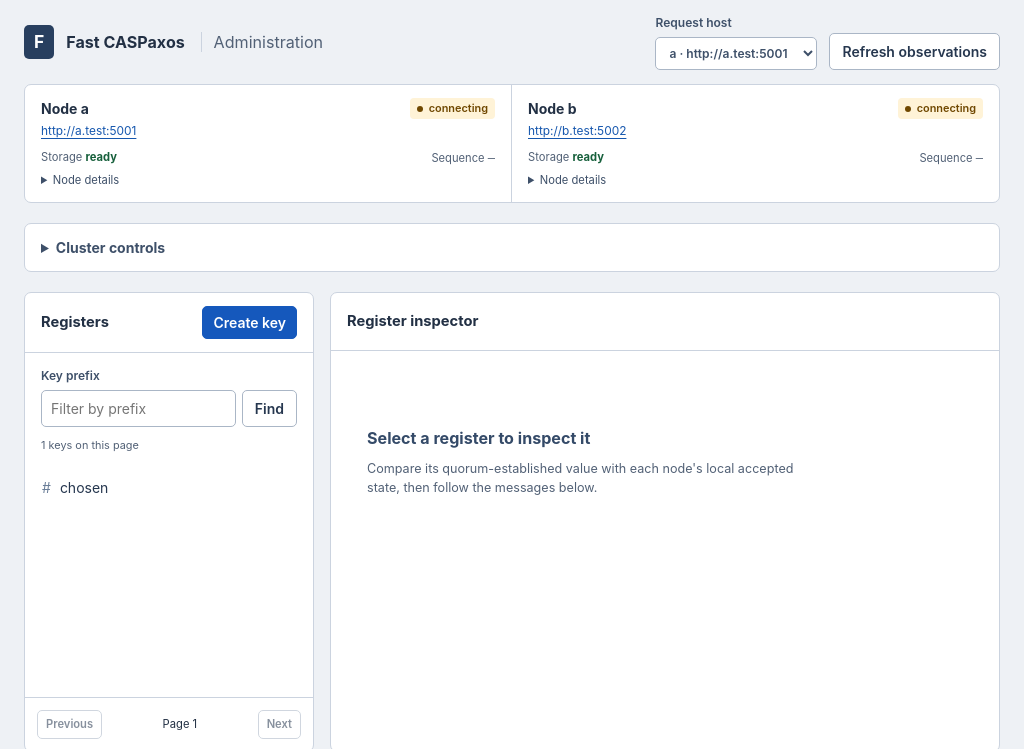
Test case: App register creation › shows both fields immediately and creates a text value in one submission
Click the button "Create key" at (250, 322), box [202,306,297,339]
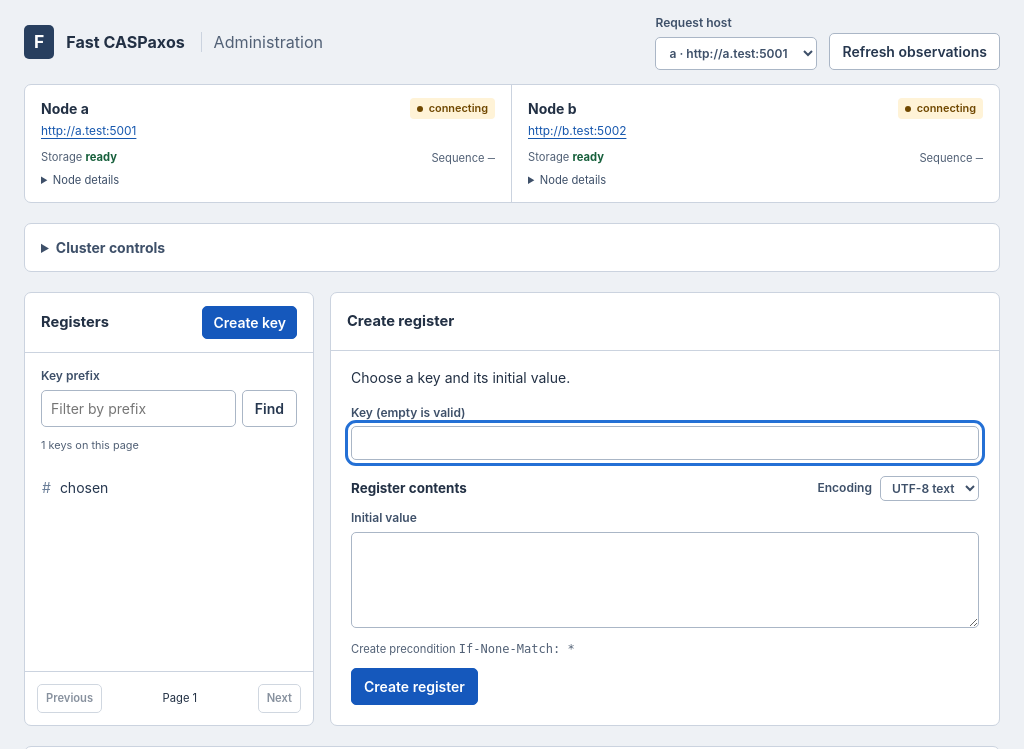
Result: the field labelled "Key (empty is valid)" is shown
Type "new/original" into the field labelled "Key (empty is valid)" at (665, 443), box [351,426,979,460]
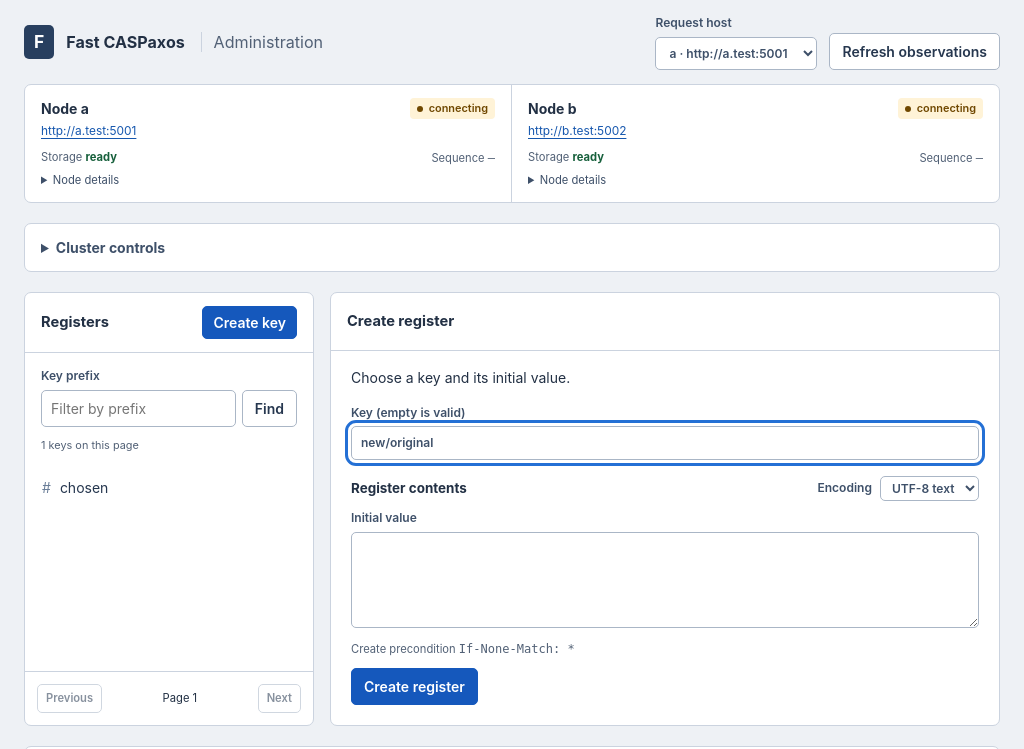
Select "UTF-8 text" in the dropdown labelled "Encoding" at (930, 488), box [880,476,979,501]
Type "hello" into the text box labelled "Initial value" at (665, 580), box [351,532,979,628]
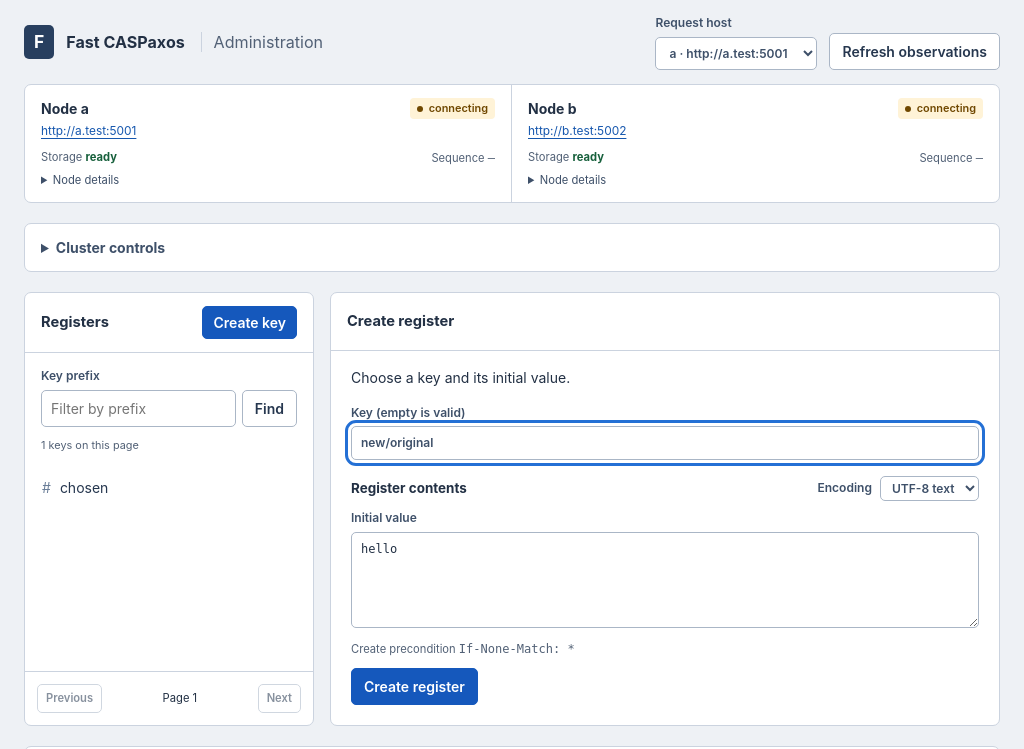
Replace the text in the field labelled "Key (empty is valid)" with "new/final" at (665, 443), box [351,426,979,460]
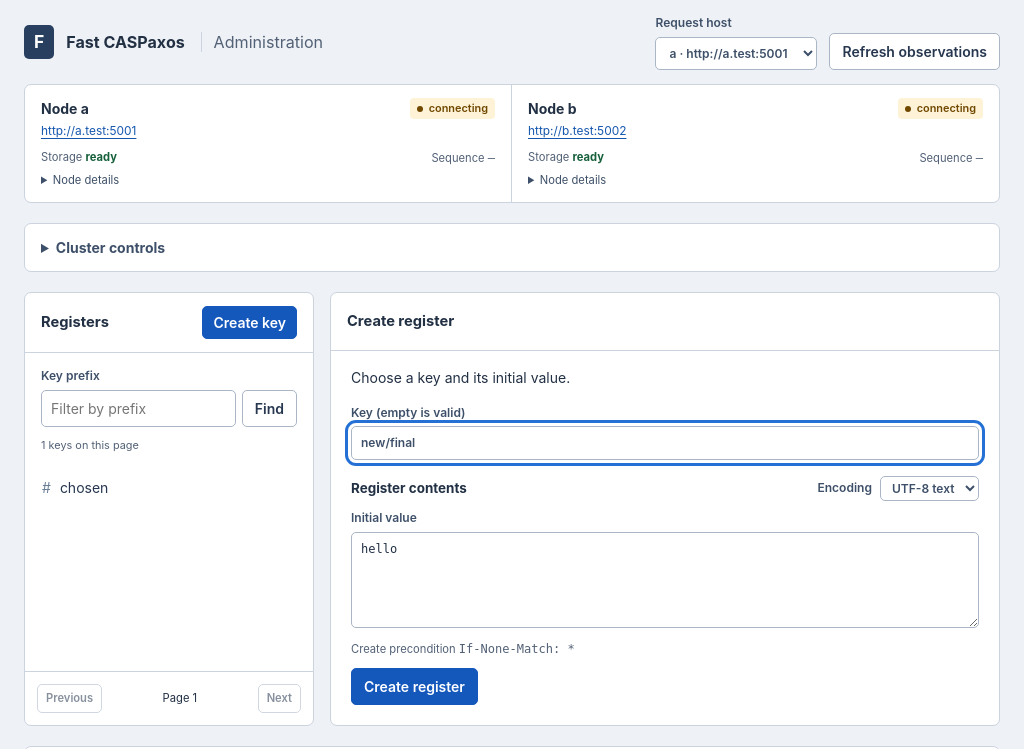
Click the button "Create register" at (414, 686), box [351,668,478,705]
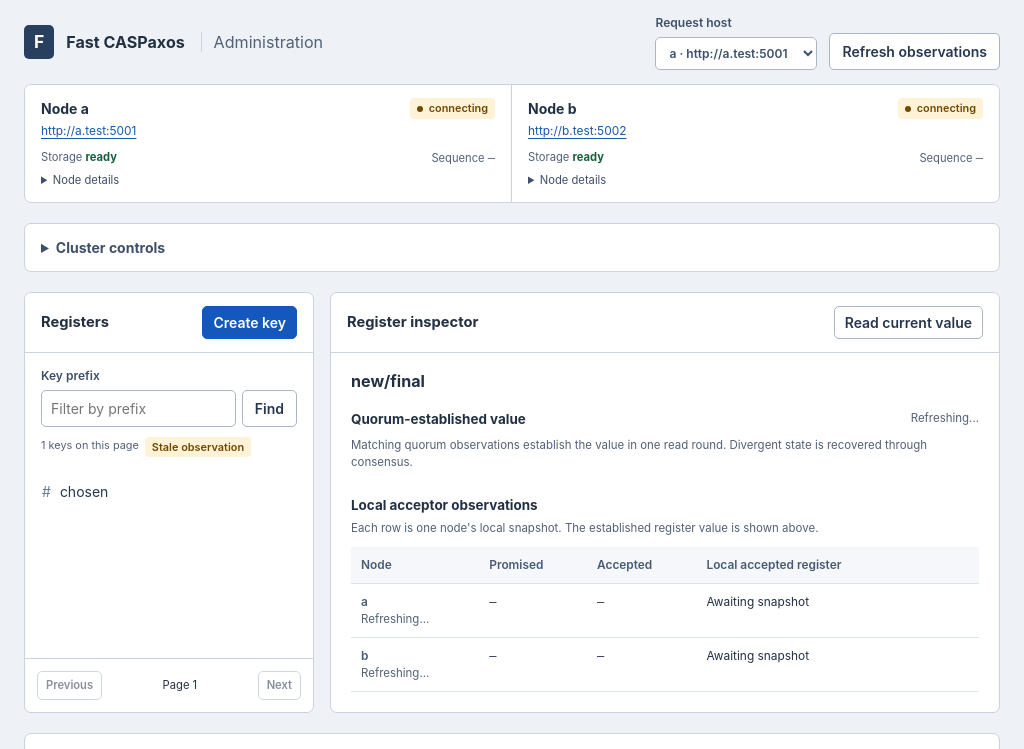
Expected: the link "http://a.test:5001" is shown, [41,123,136,138]
Result: the heading "new/final" is shown at [351,371,425,391]
Result: the heading "Register inspector" is shown at [347,311,478,333]
